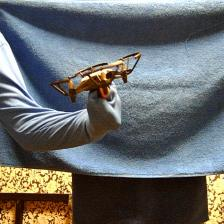drone: (52, 52, 141, 100)
